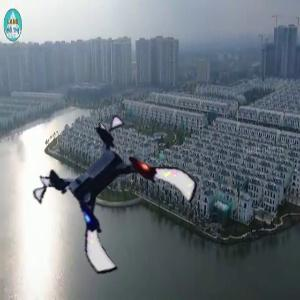drone: (48, 123, 188, 263)
